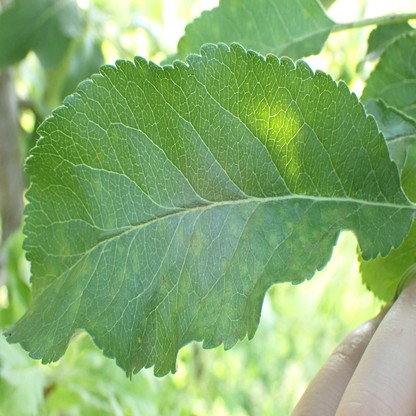scab: (285, 209, 345, 281), (234, 262, 267, 339), (194, 283, 234, 345), (241, 201, 263, 247), (66, 255, 90, 288), (170, 276, 192, 312), (108, 269, 129, 300), (29, 283, 45, 317), (189, 226, 206, 257), (69, 291, 84, 325), (28, 335, 52, 352), (355, 226, 369, 252), (158, 270, 171, 295), (87, 318, 104, 336), (91, 178, 103, 198), (130, 250, 140, 274), (55, 272, 66, 293), (360, 205, 375, 219), (220, 262, 233, 275), (158, 218, 167, 234), (268, 234, 278, 248), (229, 221, 238, 236), (117, 246, 124, 256)
